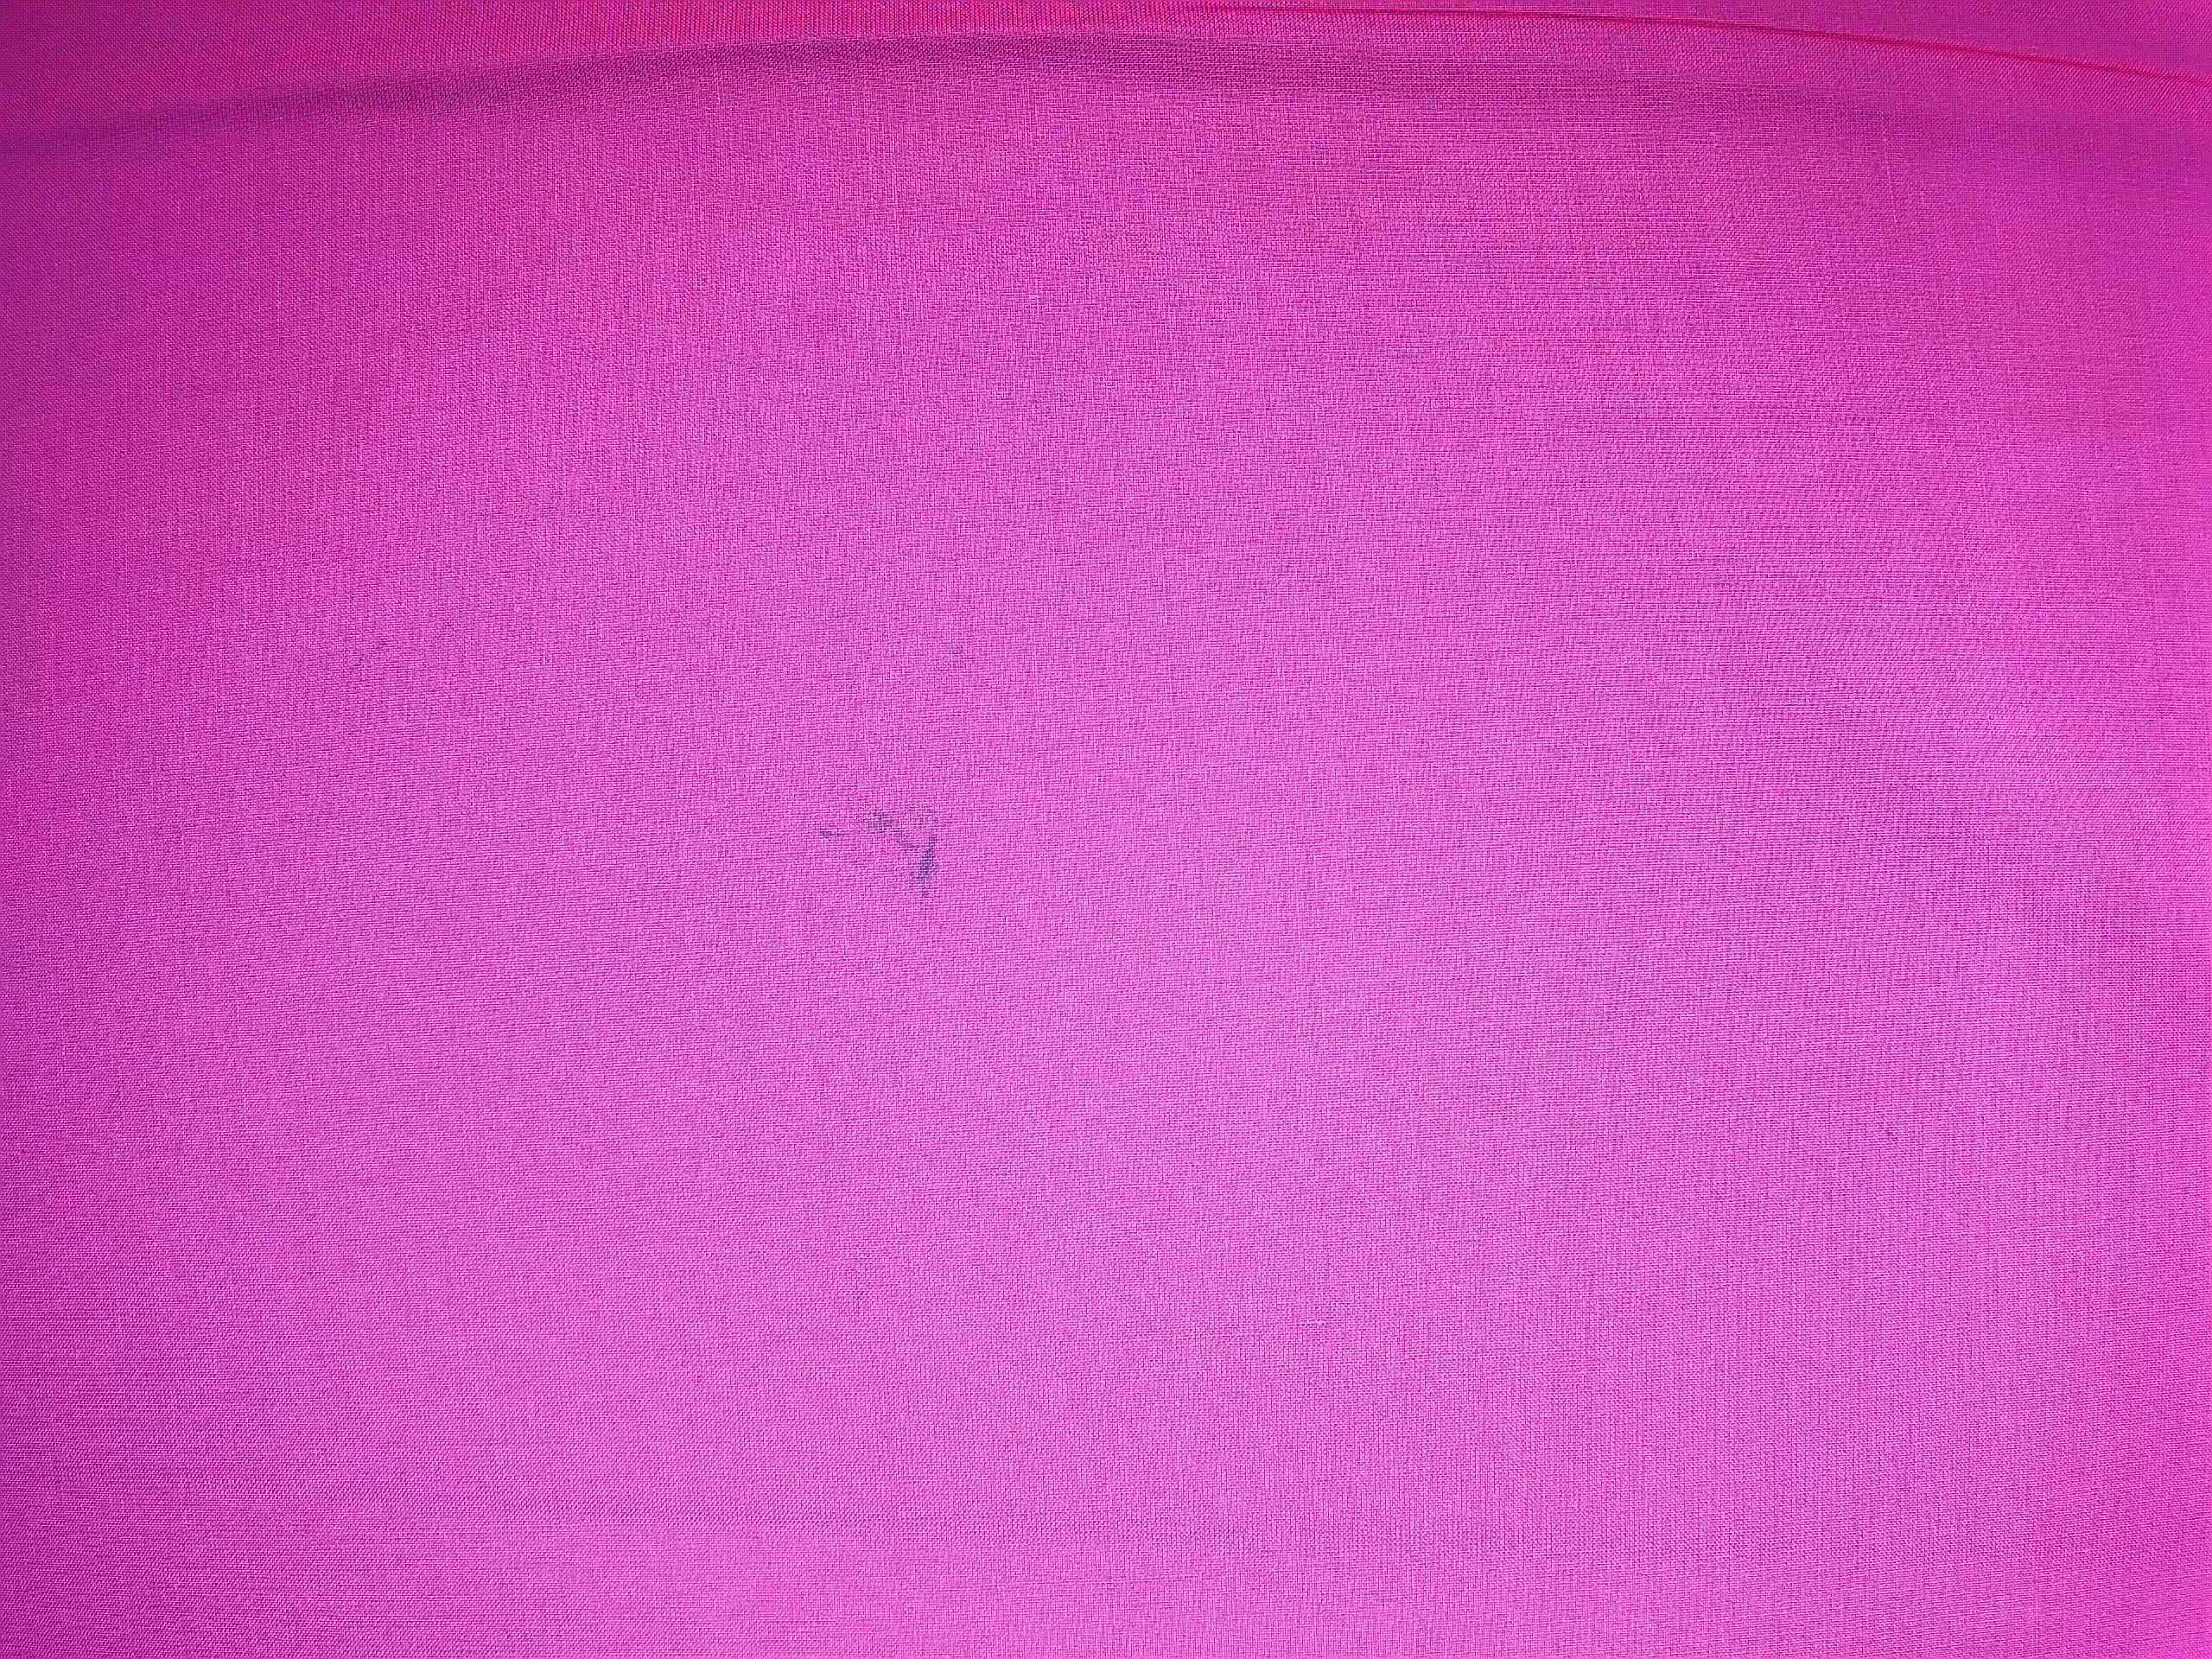stains: (792, 779, 970, 933)
